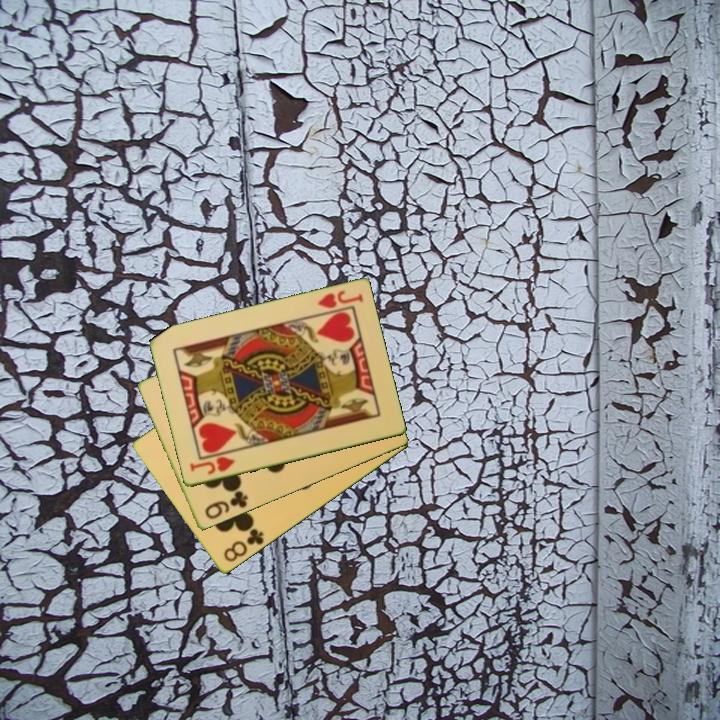8c: (220, 525, 267, 565)
9c: (201, 487, 251, 522)
Jh: (186, 453, 238, 478), (314, 287, 366, 312)
